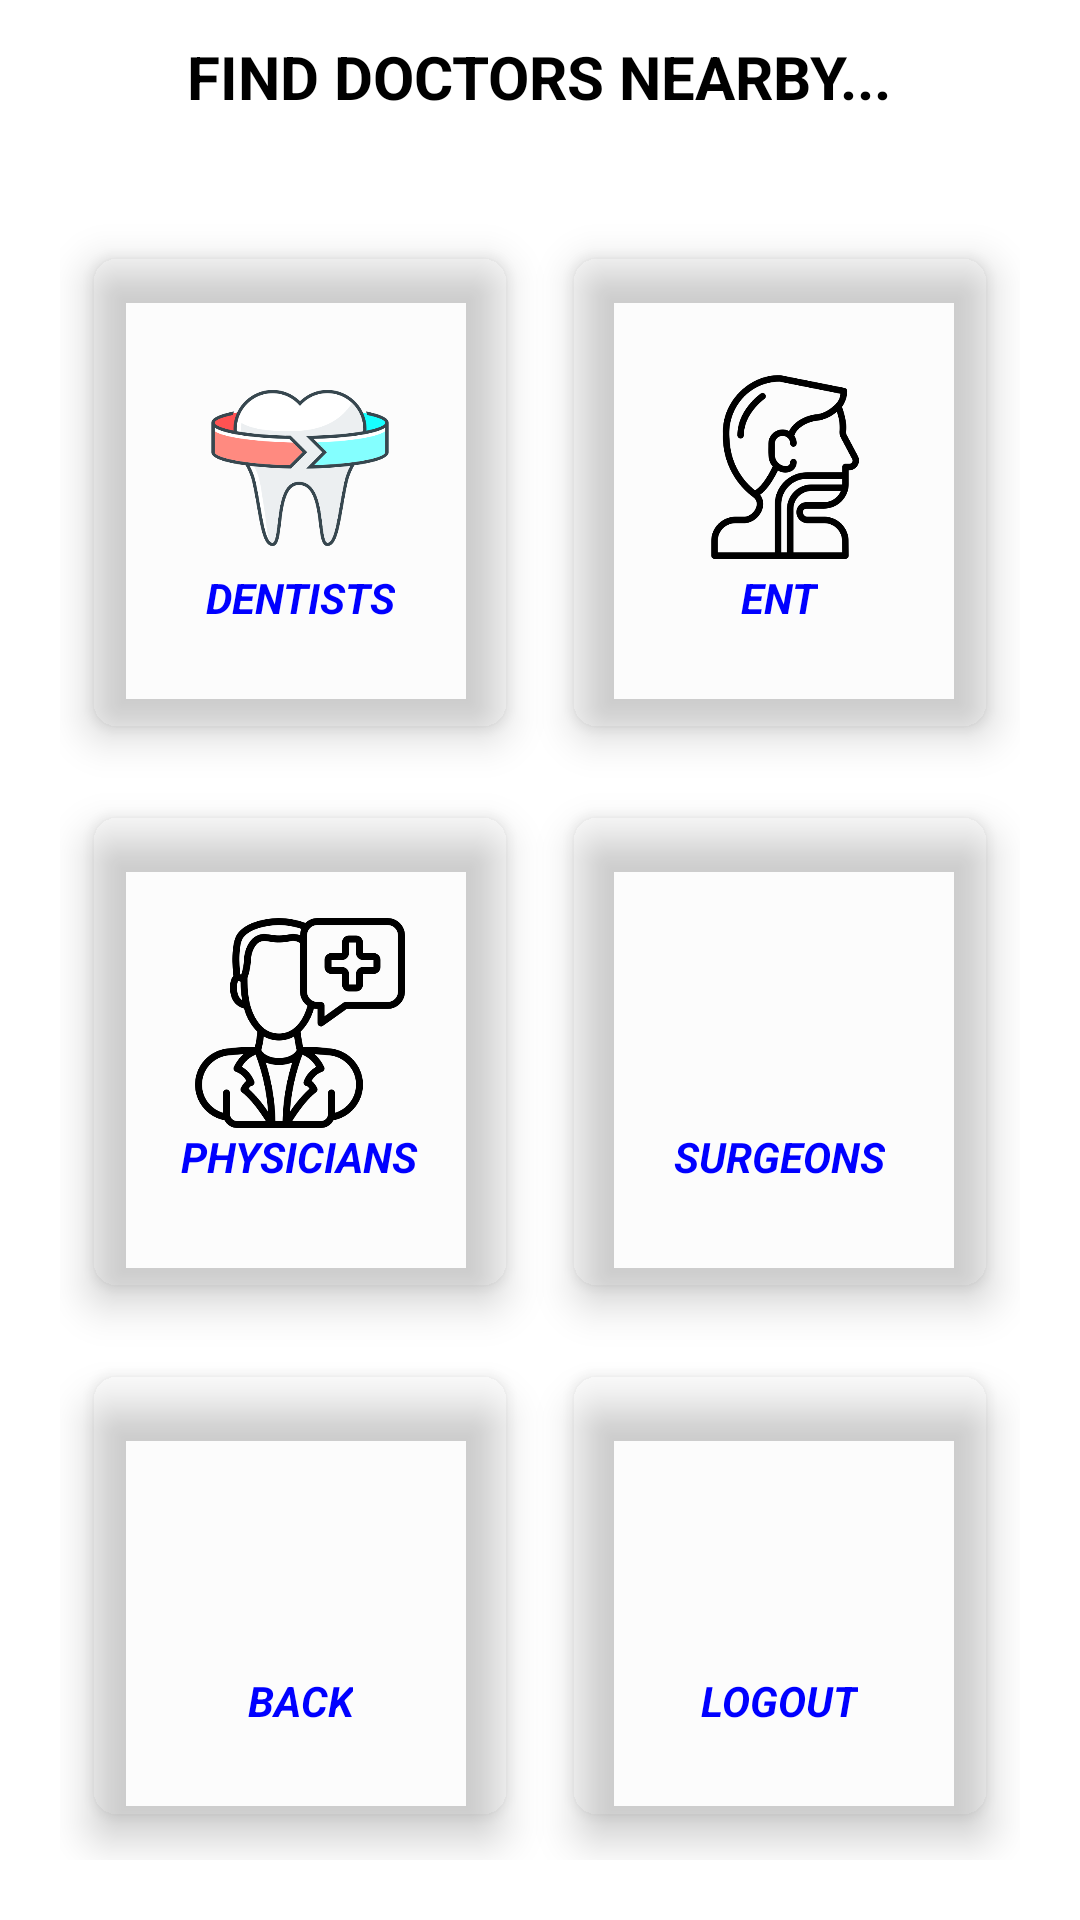

Named icons in this screenshot (1080 x 1920) and their bounding boxes, Rect(x1, y1, x2, y2):
esophagus: Rect(711, 375, 859, 559)
therapist: Rect(195, 918, 405, 1128)
